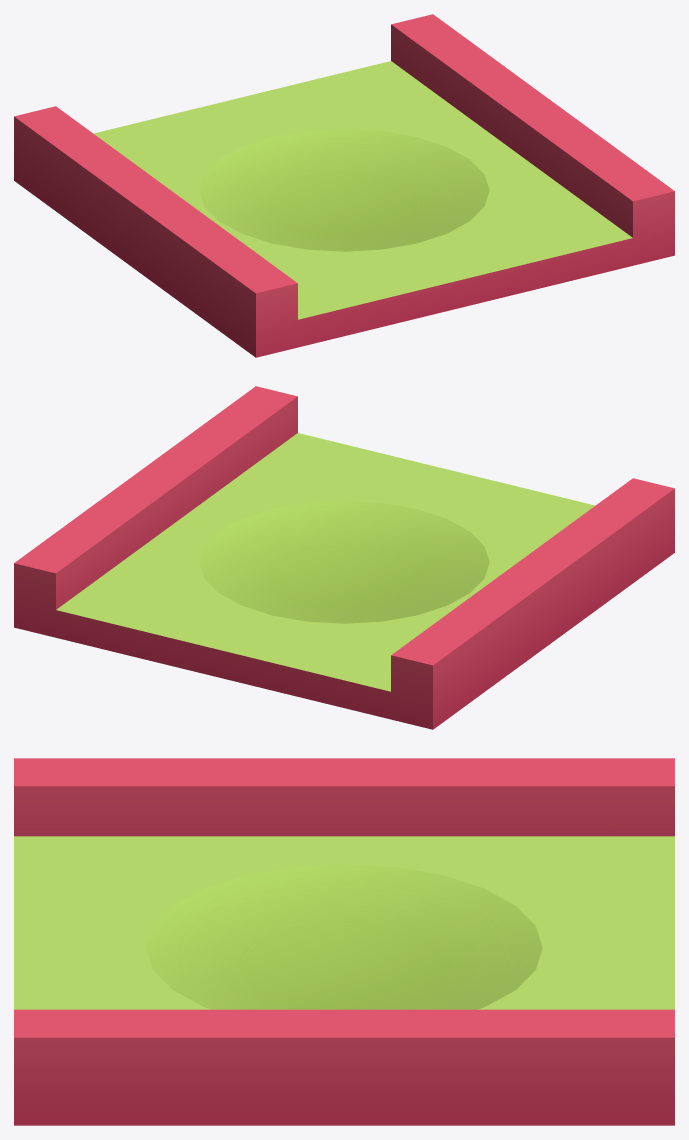
The model's file is bump-down-walls.fbx.
The picture shows the model from 3 angles, top to bottom: view 1: azimuth 30°, elevation 25°; view 2: azimuth 150°, elevation 25°; view 3: azimuth 270°, elevation 25°; orthographic projection. The views are drawn at different scales.
Parts seen in each view (by area): view 1: bump_down_walls; view 2: bump_down_walls; view 3: bump_down_walls.
Boxes of the visible parts, box(x1,y1,x2,y2) form: bump_down_walls: box(14, 14, 674, 357); bump_down_walls: box(14, 386, 674, 729); bump_down_walls: box(14, 758, 674, 1125).
Bounding box in the file's own units: 99.99 × 14.67 × 99.99.
